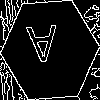A: (25, 25, 59, 73)
